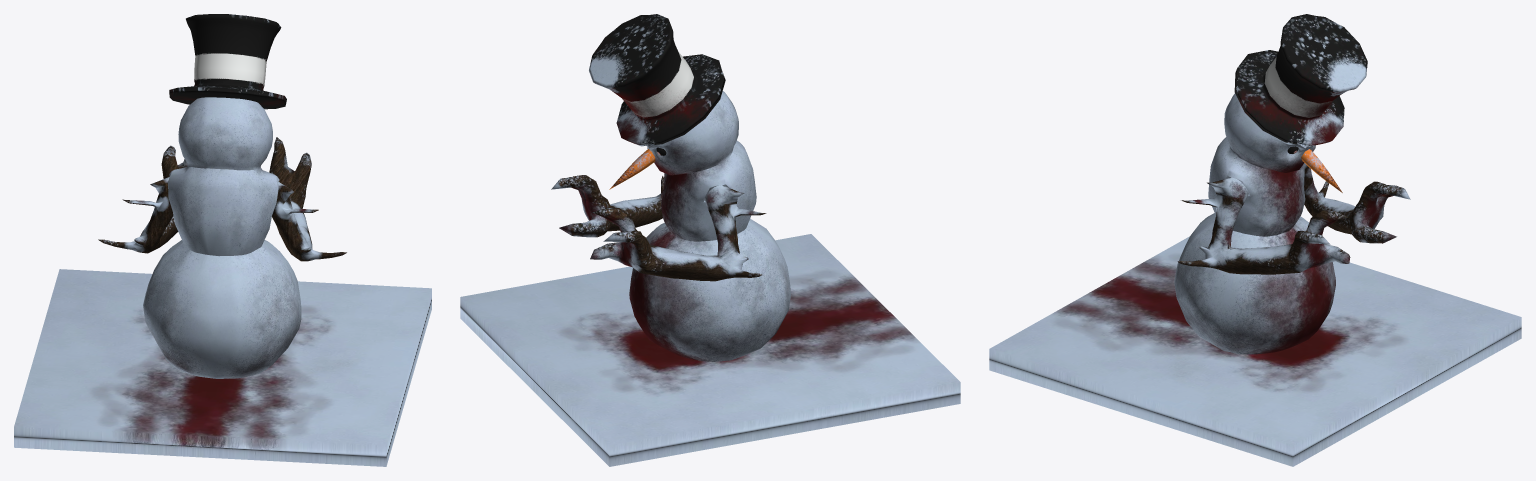
Rendered from dmuñecodenievemontaña2_lev5.glb.
3 views of the same model, side by side, from view 1: azimuth 30°, elevation 25°; view 2: azimuth 150°, elevation 25°; view 3: azimuth 270°, elevation 25° (orthographic).
Parts seen in each view (by area): view 1: Pavimento1_Pavimento1_0.002, SnowMan1_SnowMan1_0.002, Cappello1_Cappello1_0.002, Braccia_e__Mani1_Braccia_e__Mani1_0.002; view 2: Pavimento1_Pavimento1_0.002, SnowMan1_SnowMan1_0.002, Cappello1_Cappello1_0.002, Braccia_e__Mani1_Braccia_e__Mani1_0.002, Carota1_Carota1_0.002; view 3: Pavimento1_Pavimento1_0.002, SnowMan1_SnowMan1_0.002, Cappello1_Cappello1_0.002, Braccia_e__Mani1_Braccia_e__Mani1_0.002.
Part boxes in pixels (x1,y1,x2,y2): Pavimento1_Pavimento1_0.002: [14, 269, 431, 466]; SnowMan1_SnowMan1_0.002: [143, 97, 301, 378]; Cappello1_Cappello1_0.002: [169, 14, 286, 109]; Braccia_e__Mani1_Braccia_e__Mani1_0.002: [98, 137, 346, 261]; Pavimento1_Pavimento1_0.002: [460, 234, 960, 466]; SnowMan1_SnowMan1_0.002: [629, 91, 790, 361]; Cappello1_Cappello1_0.002: [589, 14, 725, 146]; Braccia_e__Mani1_Braccia_e__Mani1_0.002: [551, 175, 766, 281]; Carota1_Carota1_0.002: [609, 149, 655, 189]; Pavimento1_Pavimento1_0.002: [989, 236, 1521, 466]; SnowMan1_SnowMan1_0.002: [1174, 93, 1335, 354]; Cappello1_Cappello1_0.002: [1234, 14, 1367, 146]; Braccia_e__Mani1_Braccia_e__Mani1_0.002: [1177, 164, 1410, 274].
Bounding box in the file's own units: 69.19 × 50.07 × 69.19.
6 materials, 6 textured.
